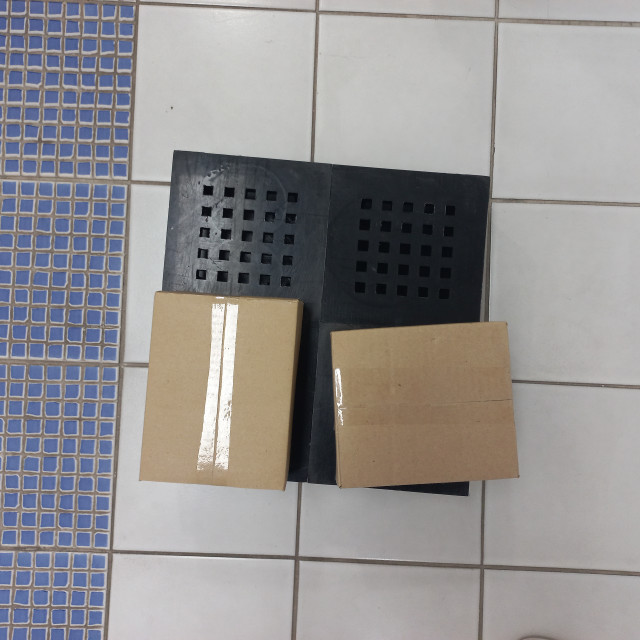box: (334, 146, 455, 350), (171, 150, 313, 322)
